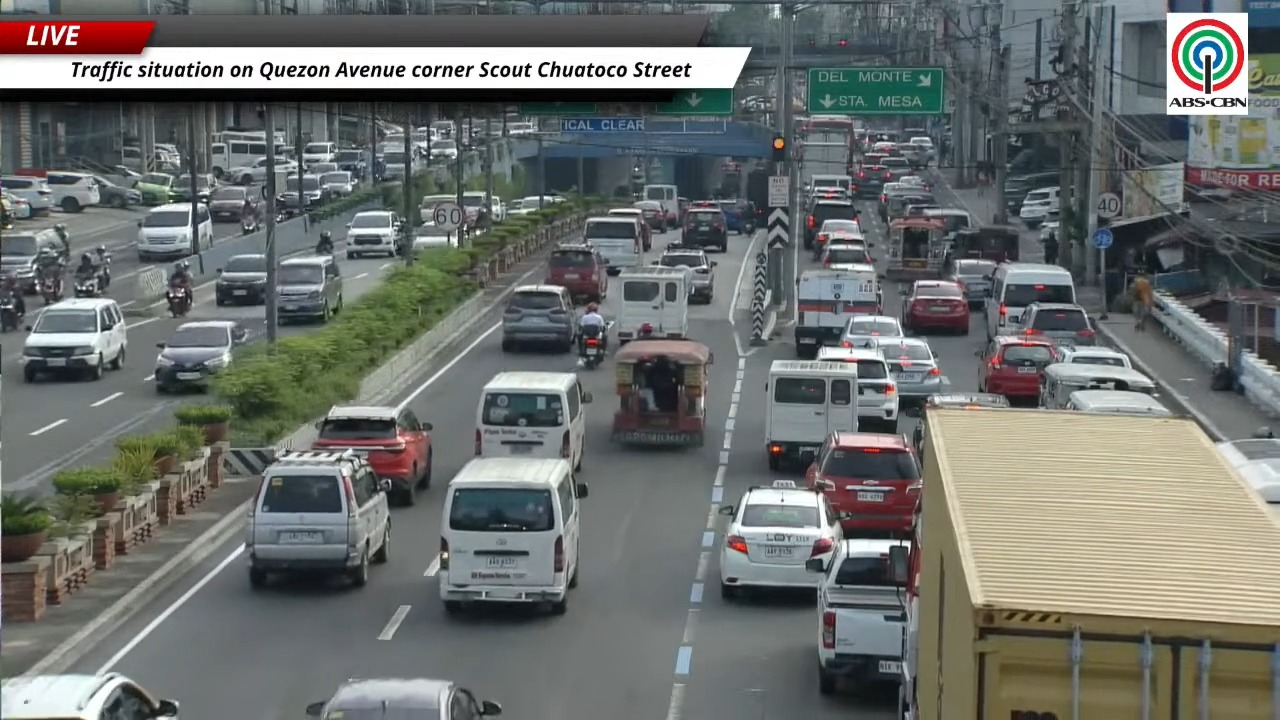bus: (210, 132, 266, 178)
car: (245, 450, 391, 589), (719, 480, 842, 598), (805, 431, 921, 536), (312, 406, 432, 505), (21, 299, 126, 382), (0, 672, 178, 719), (306, 679, 501, 719), (906, 393, 1009, 461), (816, 347, 898, 432), (154, 320, 246, 393), (978, 336, 1058, 402), (501, 285, 577, 351), (1216, 435, 1279, 512), (876, 337, 946, 404), (276, 255, 343, 322), (0, 227, 67, 293), (901, 280, 969, 334), (545, 243, 606, 302), (657, 244, 716, 302), (1019, 302, 1095, 345), (803, 197, 857, 249), (345, 210, 402, 259), (945, 258, 996, 309), (215, 254, 266, 305), (45, 171, 100, 212), (0, 175, 53, 215), (681, 205, 727, 251), (841, 315, 904, 347), (607, 208, 652, 251), (208, 186, 260, 222), (883, 188, 939, 221), (276, 174, 328, 208), (820, 235, 872, 269), (1058, 345, 1132, 368), (1019, 187, 1059, 228), (814, 219, 864, 251), (94, 175, 141, 208), (134, 172, 175, 205), (716, 199, 752, 234), (855, 164, 891, 198), (633, 200, 667, 232), (226, 157, 266, 184), (335, 148, 368, 179), (318, 170, 355, 196), (0, 192, 31, 219), (881, 155, 913, 179), (818, 219, 863, 235), (1039, 210, 1059, 243), (170, 173, 192, 201), (898, 175, 931, 192), (306, 161, 340, 174)
motorcycle: (579, 321, 612, 369), (166, 284, 190, 317), (0, 295, 22, 331), (580, 337, 603, 369), (40, 276, 62, 304), (74, 276, 100, 298), (241, 215, 259, 234), (315, 239, 335, 255), (741, 216, 755, 234)
truck: (891, 408, 1279, 719), (806, 538, 904, 694), (794, 264, 882, 358)
